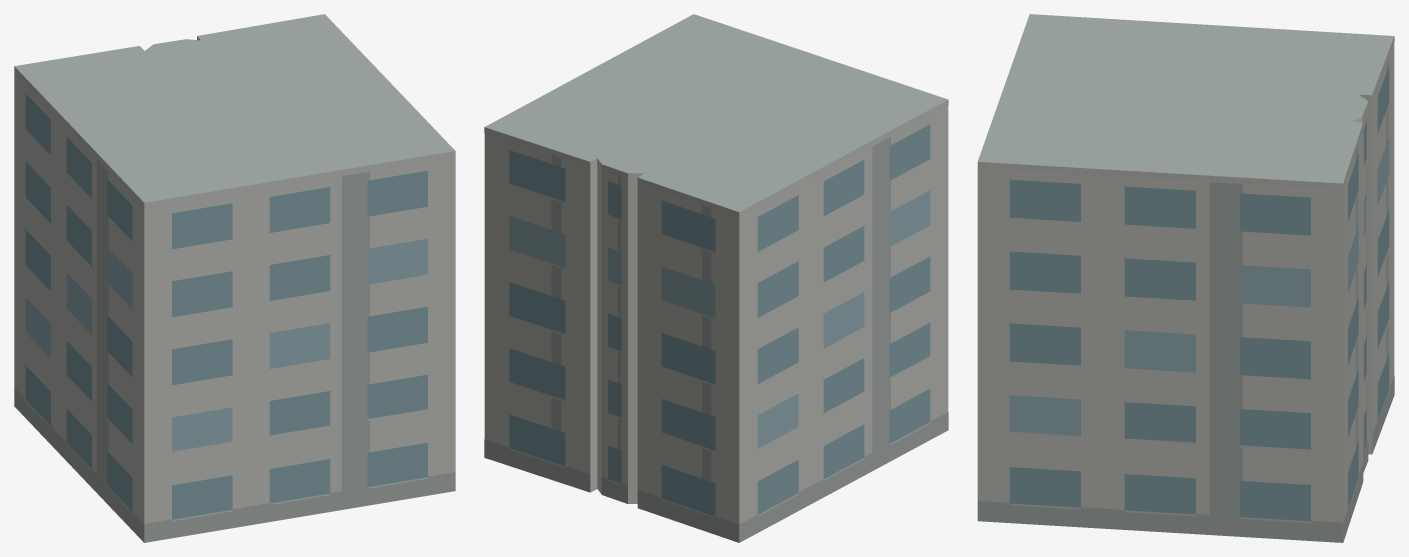
File: survey-upis-32852616.glb
3 views of the same model, side by side, from view 1: azimuth 30°, elevation 25°; view 2: azimuth 150°, elevation 25°; view 3: azimuth 270°, elevation 25° (orthographic). The views are drawn at different scales.
Visible parts, largest first — view 1: survey-upis-32852616.tmp; view 2: survey-upis-32852616.tmp; view 3: survey-upis-32852616.tmp.
Part boxes in pixels (left/top/right/bottom): survey-upis-32852616.tmp: left=14, top=14, right=455, bottom=542; survey-upis-32852616.tmp: left=484, top=14, right=948, bottom=542; survey-upis-32852616.tmp: left=977, top=14, right=1394, bottom=542.
Size of the model in its own units: 13.57 by 13.4 by 14.1.
